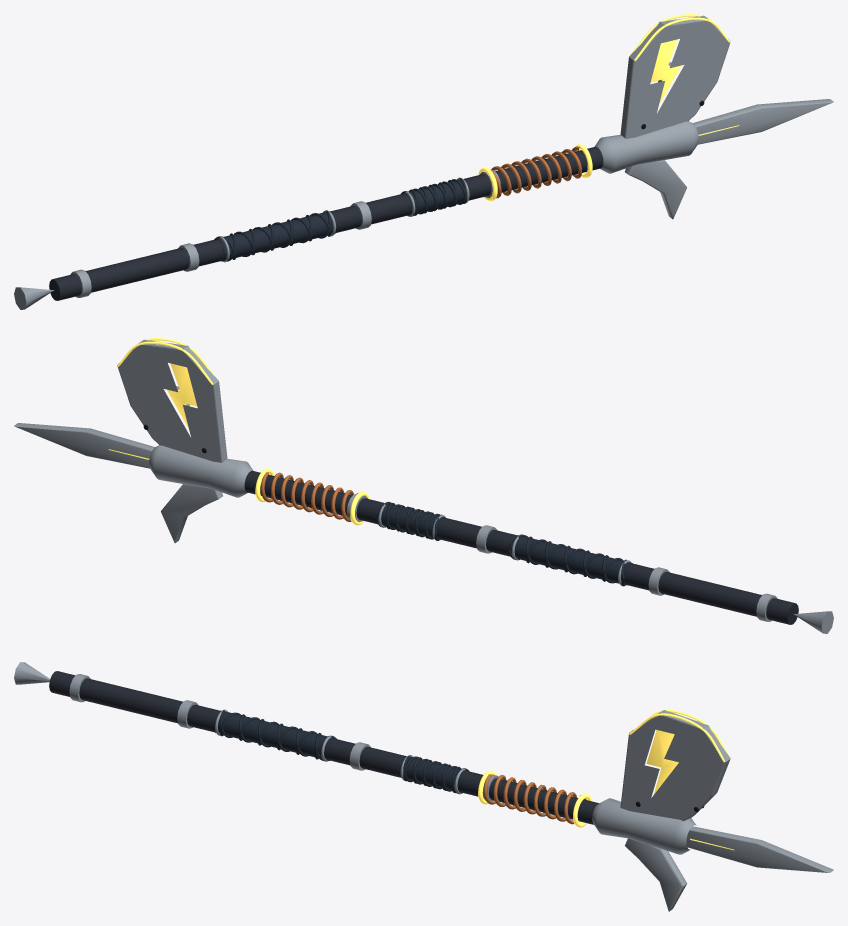
Rendered from storm-halberd.glb.
3 views of the same model, one above another, from view 1: azimuth 30°, elevation 25°; view 2: azimuth 150°, elevation 25°; view 3: azimuth 330°, elevation 25° (orthographic).
Visible parts, largest first — view 1: 07_Meteor_Polearm__body_Sculpt_metal, 07_Meteor_Polearm__body_Sculpt_coat, 07_Meteor_Polearm__body_Sculpt_grip, 07_Meteor_Polearm__body_Sculpt_glow, 07_Meteor_Polearm__body_Sculpt_copper_metal; view 2: 07_Meteor_Polearm__body_Sculpt_metal, 07_Meteor_Polearm__body_Sculpt_coat, 07_Meteor_Polearm__body_Sculpt_grip, 07_Meteor_Polearm__body_Sculpt_glow, 07_Meteor_Polearm__body_Sculpt_copper_metal; view 3: 07_Meteor_Polearm__body_Sculpt_metal, 07_Meteor_Polearm__body_Sculpt_coat, 07_Meteor_Polearm__body_Sculpt_grip, 07_Meteor_Polearm__body_Sculpt_glow, 07_Meteor_Polearm__body_Sculpt_copper_metal.
Boxes of the visible parts, x1,y1,x2,y2 form: 07_Meteor_Polearm__body_Sculpt_metal: (14, 15, 833, 309); 07_Meteor_Polearm__body_Sculpt_coat: (49, 146, 603, 300); 07_Meteor_Polearm__body_Sculpt_grip: (214, 178, 469, 261); 07_Meteor_Polearm__body_Sculpt_glow: (478, 14, 739, 201); 07_Meteor_Polearm__body_Sculpt_copper_metal: (491, 146, 581, 198); 07_Meteor_Polearm__body_Sculpt_metal: (14, 339, 833, 633); 07_Meteor_Polearm__body_Sculpt_coat: (244, 470, 798, 624); 07_Meteor_Polearm__body_Sculpt_grip: (376, 502, 632, 586); 07_Meteor_Polearm__body_Sculpt_glow: (108, 338, 369, 525); 07_Meteor_Polearm__body_Sculpt_copper_metal: (261, 472, 357, 521); 07_Meteor_Polearm__body_Sculpt_metal: (14, 662, 833, 911); 07_Meteor_Polearm__body_Sculpt_coat: (49, 671, 598, 824); 07_Meteor_Polearm__body_Sculpt_grip: (212, 710, 469, 793); 07_Meteor_Polearm__body_Sculpt_glow: (478, 710, 734, 850); 07_Meteor_Polearm__body_Sculpt_copper_metal: (483, 774, 586, 824).
Size of the model in its own units: 3.77 by 0.8803 by 0.16.
